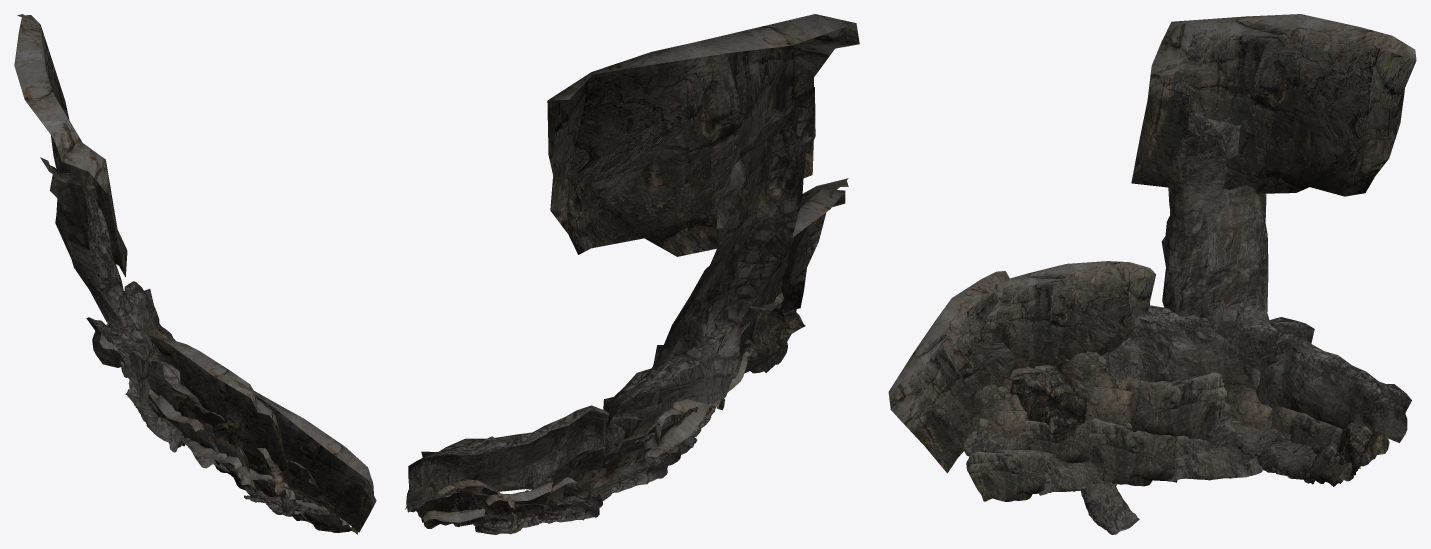
The model's file is Rocks test.fbx.
The picture shows the model from 3 angles, left to right: view 1: azimuth 30°, elevation 25°; view 2: azimuth 150°, elevation 25°; view 3: azimuth 270°, elevation 25°; orthographic projection. The views are drawn at different scales.
Visible parts, largest first — view 1: Rock6.011, Rock6.012, Rock1.012, Rock6.010, Rock1.009, Rock1.010, Rock6.005, qjycI_LOD0_TIER3_002.005, Rock1.008, Rock6.006, Rock6.004, Rock6.007 (+2 smaller); view 2: Rock6.012, Rock1.012, Rock1.010, Rock1.009, Rock6.011, qjycI_LOD0_TIER3_002.004, Rock6.010, qjycI_LOD0_TIER3_002.005, Rock1.008, qjycI_LOD0_TIER3_000.006, Rock1.007, Rock6.009 (+4 smaller); view 3: Rock6.012, Rock1.012, Rock6.010, Rock6.011, Rock1.009, Rock1.010, Rock6.005, Rock6.004, qjycI_LOD0_TIER3_002.005, Rock6.006, qjycI_LOD0_TIER3_000.004, Rock1.004 (+11 smaller).
Boxes of the visible parts, x1=… form: Rock6.011: x1=226, y1=379, x2=376, y2=532; Rock6.012: x1=14, y1=14, x2=127, y2=276; Rock1.012: x1=40, y1=157, x2=154, y2=403; Rock6.010: x1=144, y1=334, x2=289, y2=473; Rock1.009: x1=86, y1=317, x2=213, y2=433; Rock1.010: x1=100, y1=281, x2=161, y2=389; Rock6.005: x1=139, y1=389, x2=219, y2=465; qjycI_LOD0_TIER3_002.005: x1=212, y1=422, x2=295, y2=514; Rock1.008: x1=125, y1=389, x2=185, y2=452; Rock6.006: x1=272, y1=496, x2=357, y2=534; Rock6.004: x1=184, y1=440, x2=271, y2=502; Rock6.007: x1=229, y1=466, x2=304, y2=514; Rock6.012: x1=547, y1=14, x2=859, y2=256; Rock1.012: x1=618, y1=87, x2=815, y2=414; Rock1.010: x1=406, y1=405, x2=641, y2=512; Rock1.009: x1=598, y1=301, x2=780, y2=474; Rock6.011: x1=776, y1=178, x2=848, y2=323; qjycI_LOD0_TIER3_002.004: x1=405, y1=479, x2=514, y2=528; Rock6.010: x1=740, y1=189, x2=845, y2=349; qjycI_LOD0_TIER3_002.005: x1=744, y1=292, x2=805, y2=373; Rock1.008: x1=537, y1=448, x2=680, y2=519; qjycI_LOD0_TIER3_000.006: x1=544, y1=445, x2=620, y2=508; Rock1.007: x1=473, y1=493, x2=602, y2=534; Rock6.009: x1=484, y1=477, x2=581, y2=521; Rock6.012: x1=1131, y1=14, x2=1416, y2=196; Rock1.012: x1=1161, y1=112, x2=1270, y2=358; Rock6.010: x1=986, y1=261, x2=1155, y2=369; Rock6.011: x1=888, y1=271, x2=1016, y2=473; Rock1.009: x1=1102, y1=305, x2=1314, y2=388; Rock1.010: x1=1255, y1=340, x2=1411, y2=442; Rock6.005: x1=1126, y1=372, x2=1226, y2=439; Rock6.004: x1=1089, y1=418, x2=1189, y2=486; qjycI_LOD0_TIER3_002.005: x1=1009, y1=355, x2=1087, y2=443; Rock6.006: x1=966, y1=449, x2=1052, y2=501; qjycI_LOD0_TIER3_000.004: x1=1065, y1=352, x2=1133, y2=425; Rock1.004: x1=1168, y1=438, x2=1262, y2=481.
Size of the model in its own units: 6957 by 12813 by 14189.
